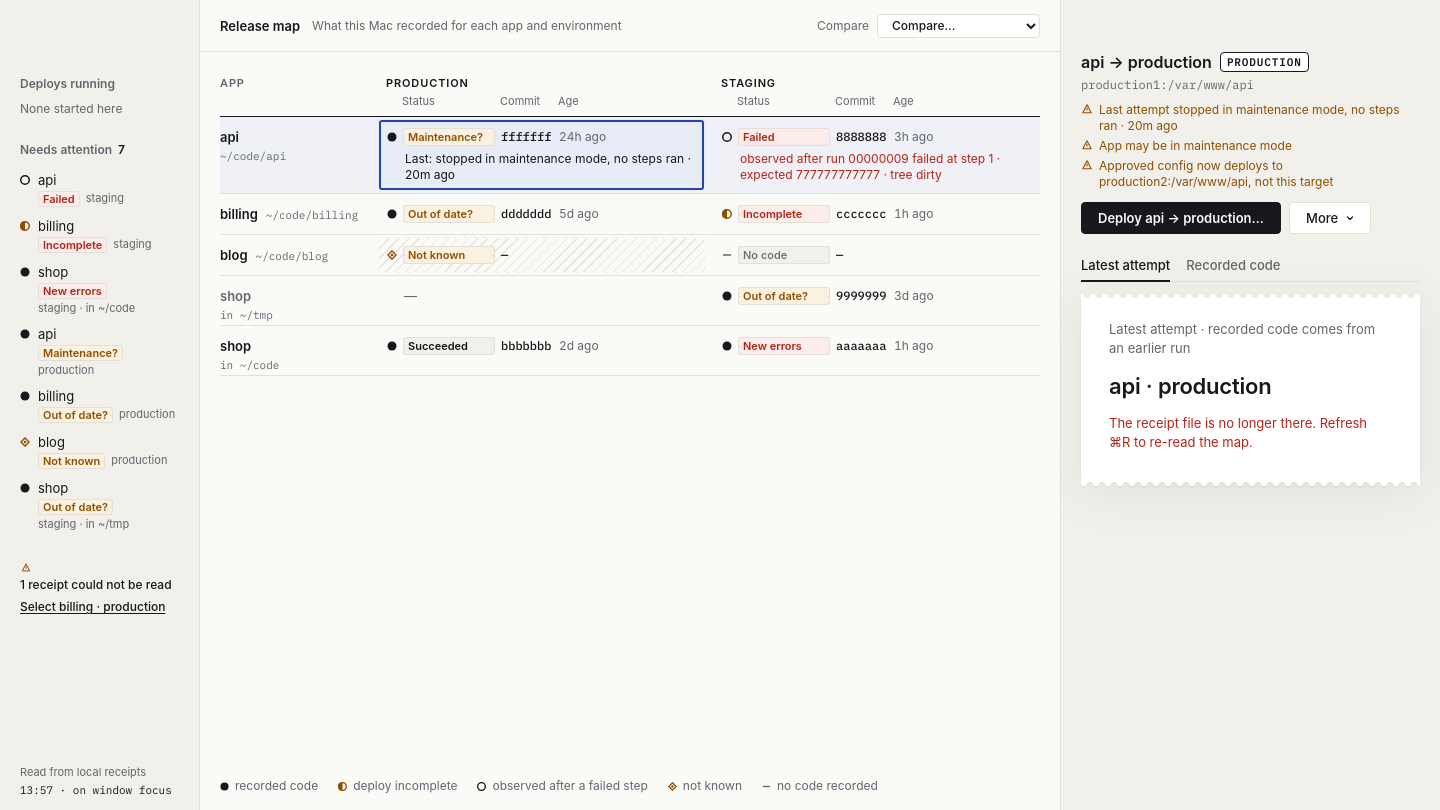
Test case: refusal: Another run holds the server lock
The width and height of the screenshot is (1440, 810).
Click the button "Deploy api → production…": (1181, 218) [1081,202,1281,234]
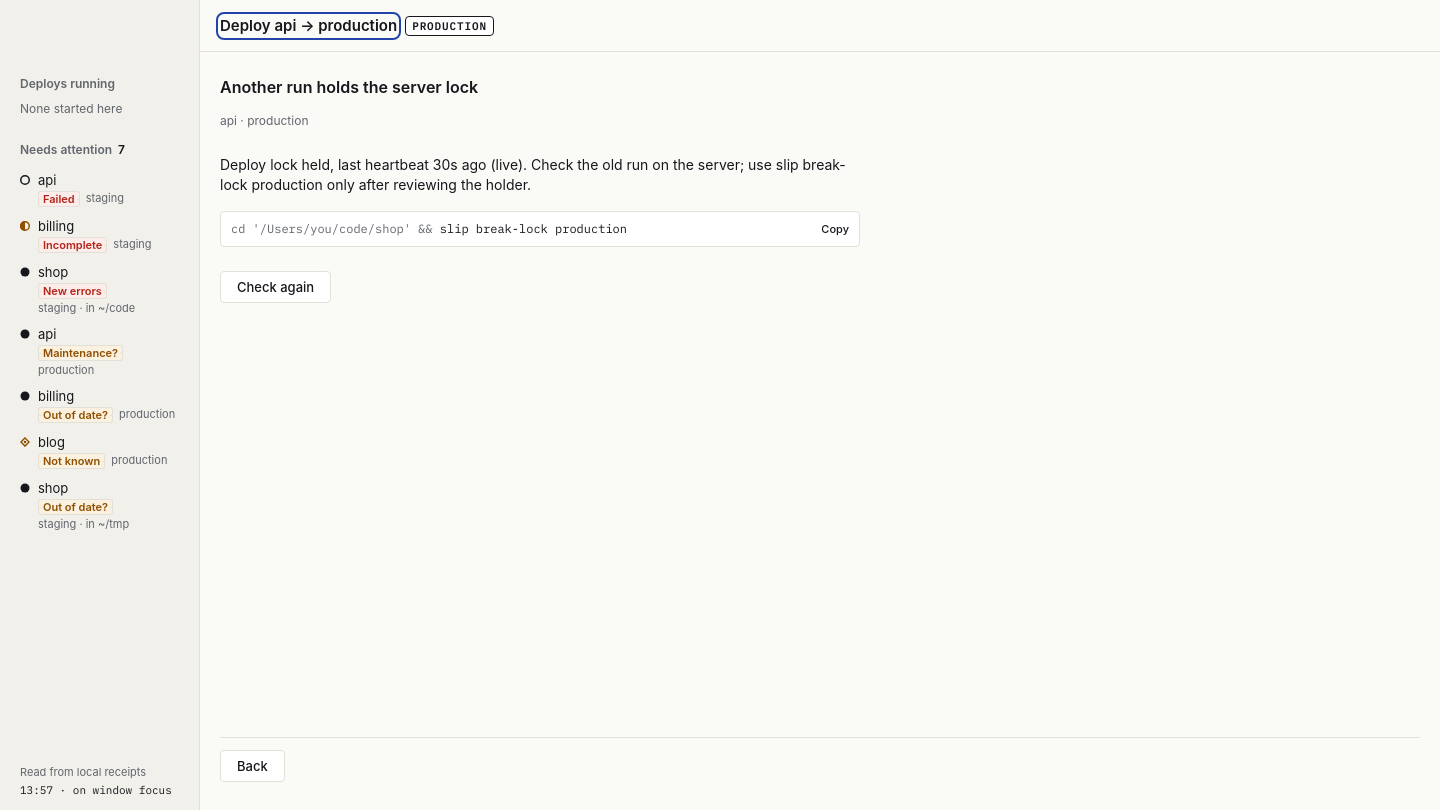
Result: the heading "Another run holds the server lock" is shown at [220,77,478,97]
Result: the text "Deploy lock held, last heartbeat 30s ago (live). Check the old run on the server; use slip break-lock production only af" is shown at [220,156,846,193]
Result: the text "slip break-lock production" is shown at [440,221,627,236]
